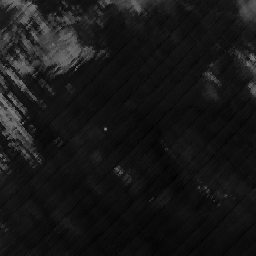Target: (102, 126, 109, 132)
